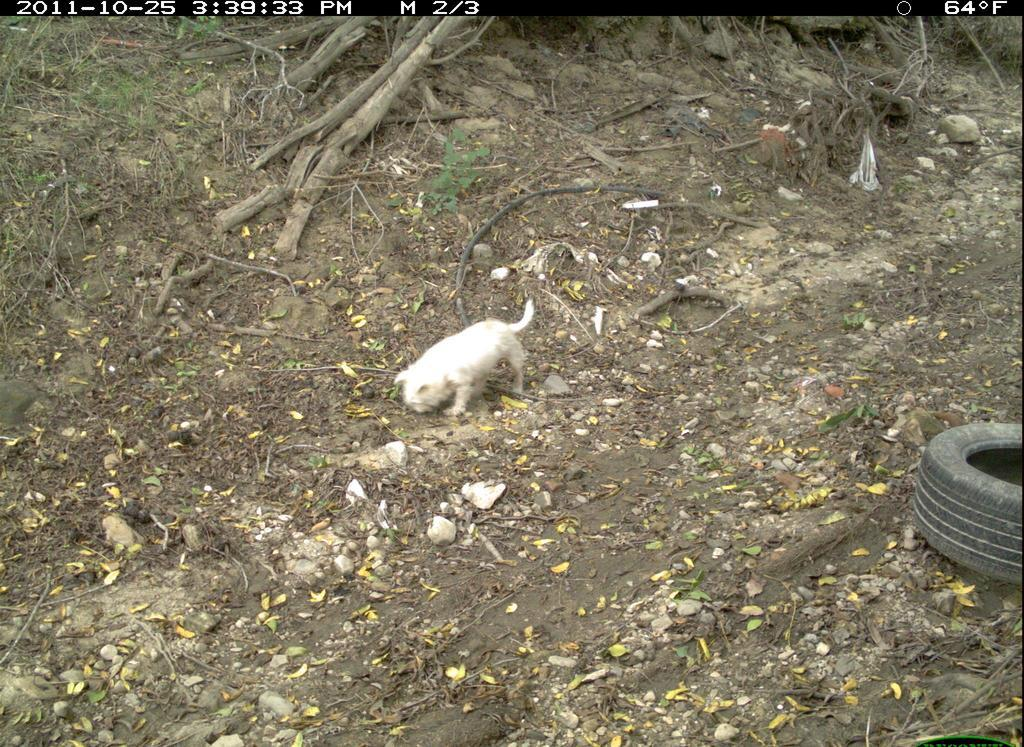dog: (387, 294, 553, 426)
